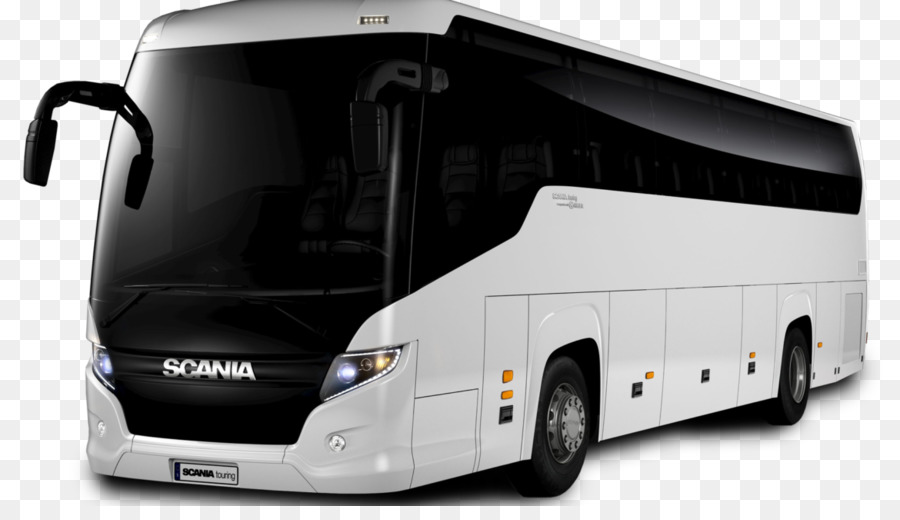bus: (83, 2, 863, 498)
